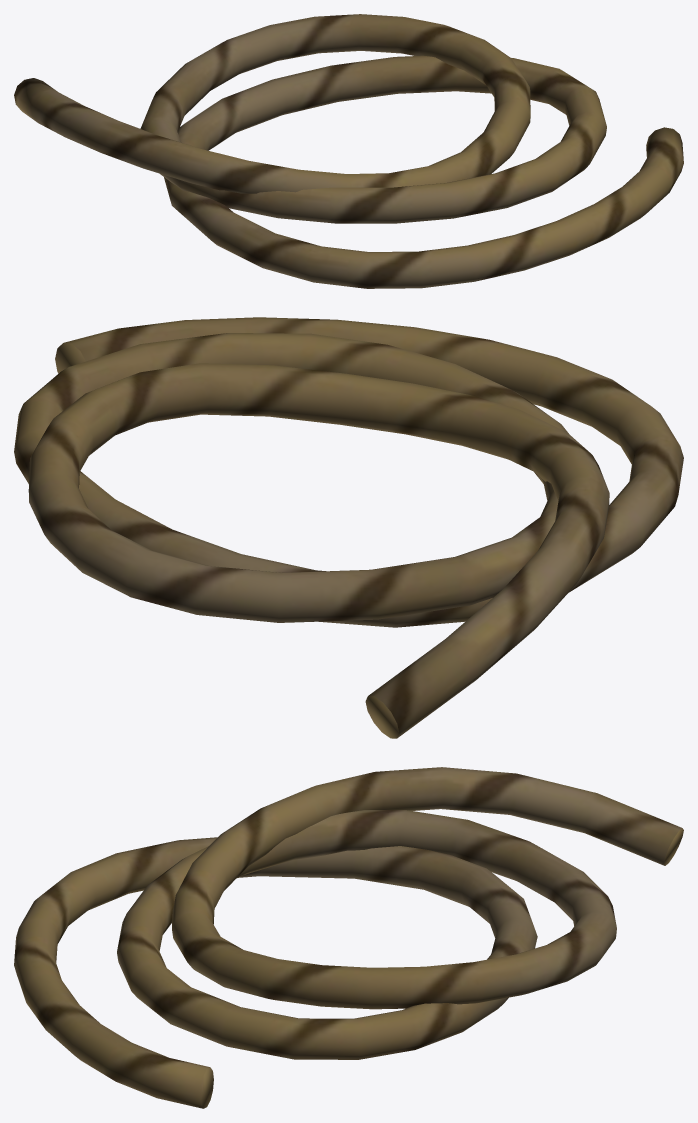
The model's file is prop_rope_2.glb.
3 views of the same model, one above another, from view 1: azimuth 30°, elevation 25°; view 2: azimuth 150°, elevation 25°; view 3: azimuth 270°, elevation 25° (orthographic). The views are drawn at different scales.
Visible parts, largest first — view 1: Rope_2; view 2: Rope_2; view 3: Rope_2.
Part boxes in pixels (x1,y1,x2,y2): Rope_2: [14, 14, 683, 288]; Rope_2: [14, 317, 683, 738]; Rope_2: [14, 767, 683, 1108].
Bounding box in the file's own units: 0.8078 × 0.1236 × 0.845.
1 material, 1 textured.
